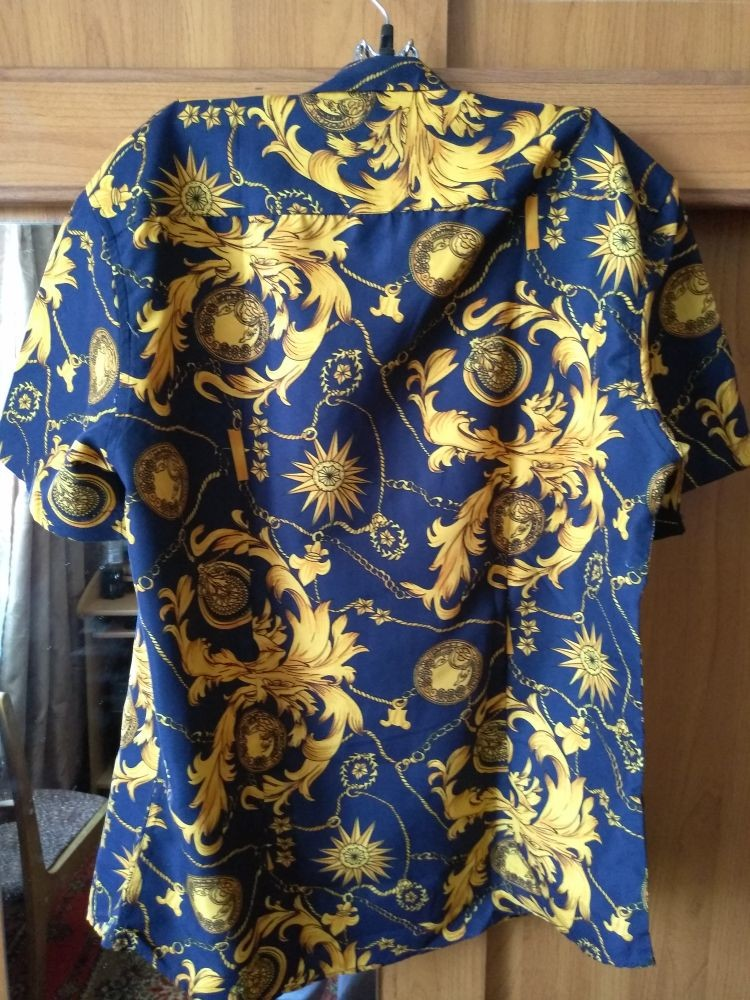shirts: (33, 49, 727, 950)
